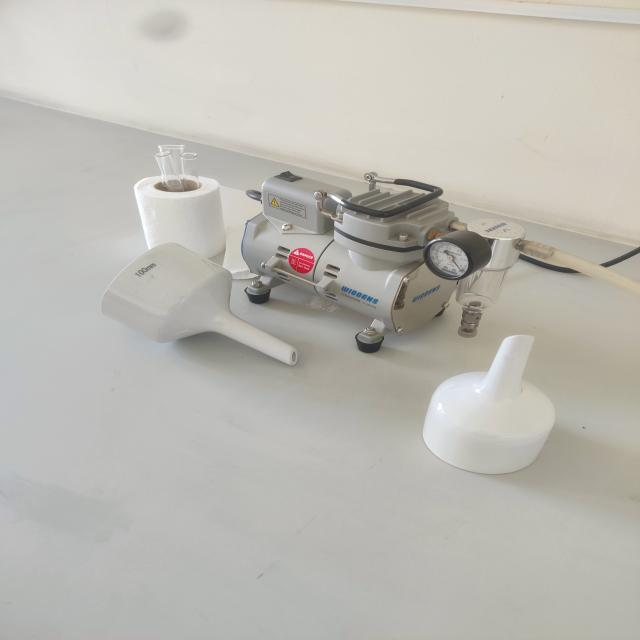Buchner_Funnel: (66, 220, 318, 398), (401, 308, 589, 492)
